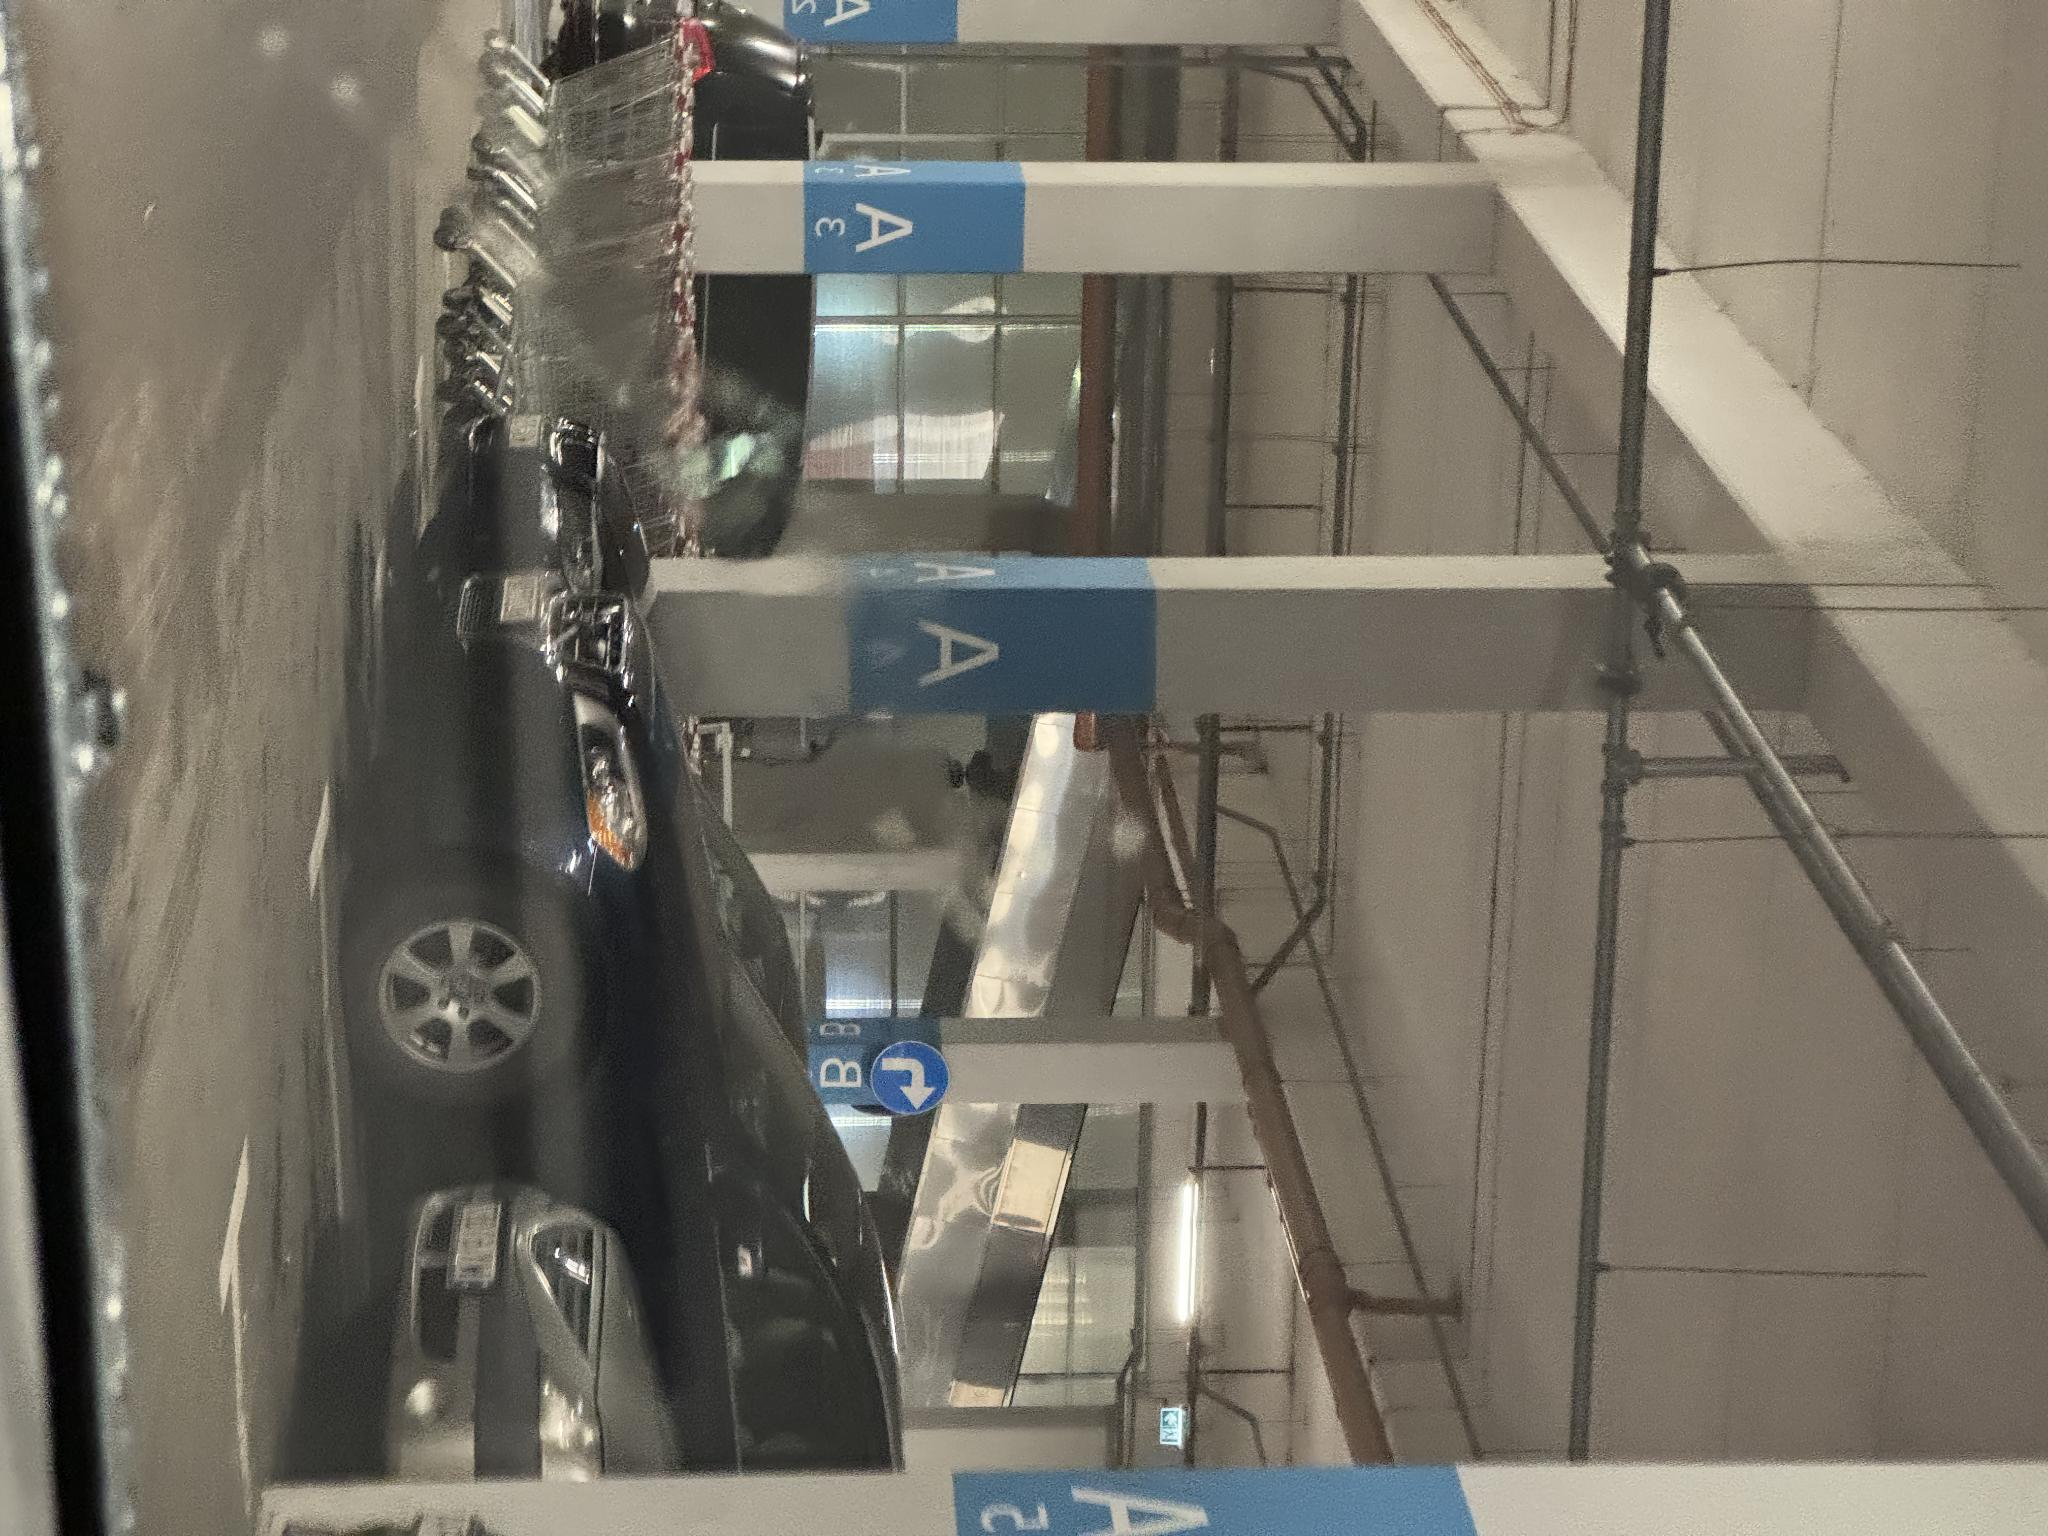mandatory: (1550, 1099, 1629, 1178)
